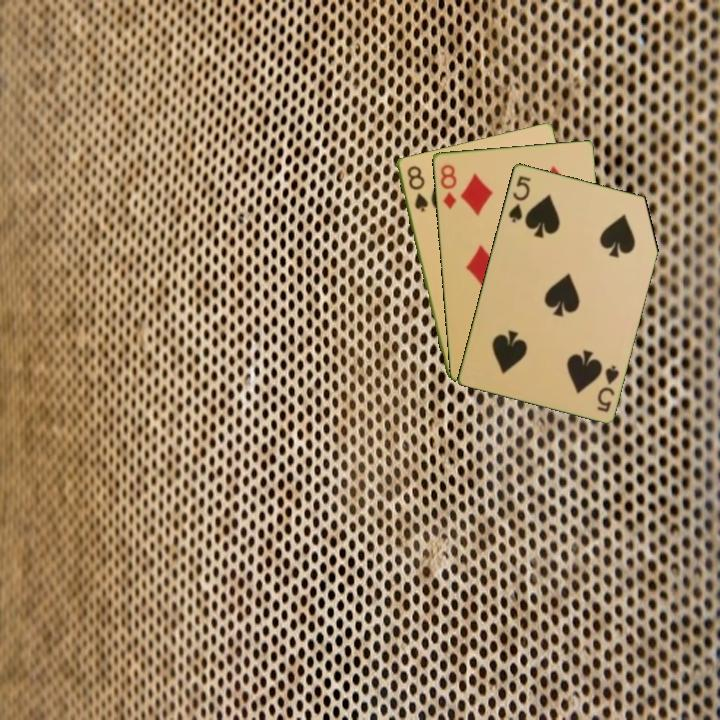5s: (593, 361, 622, 415), (505, 172, 534, 225)
8d: (437, 160, 459, 211)
8s: (403, 162, 431, 214)
